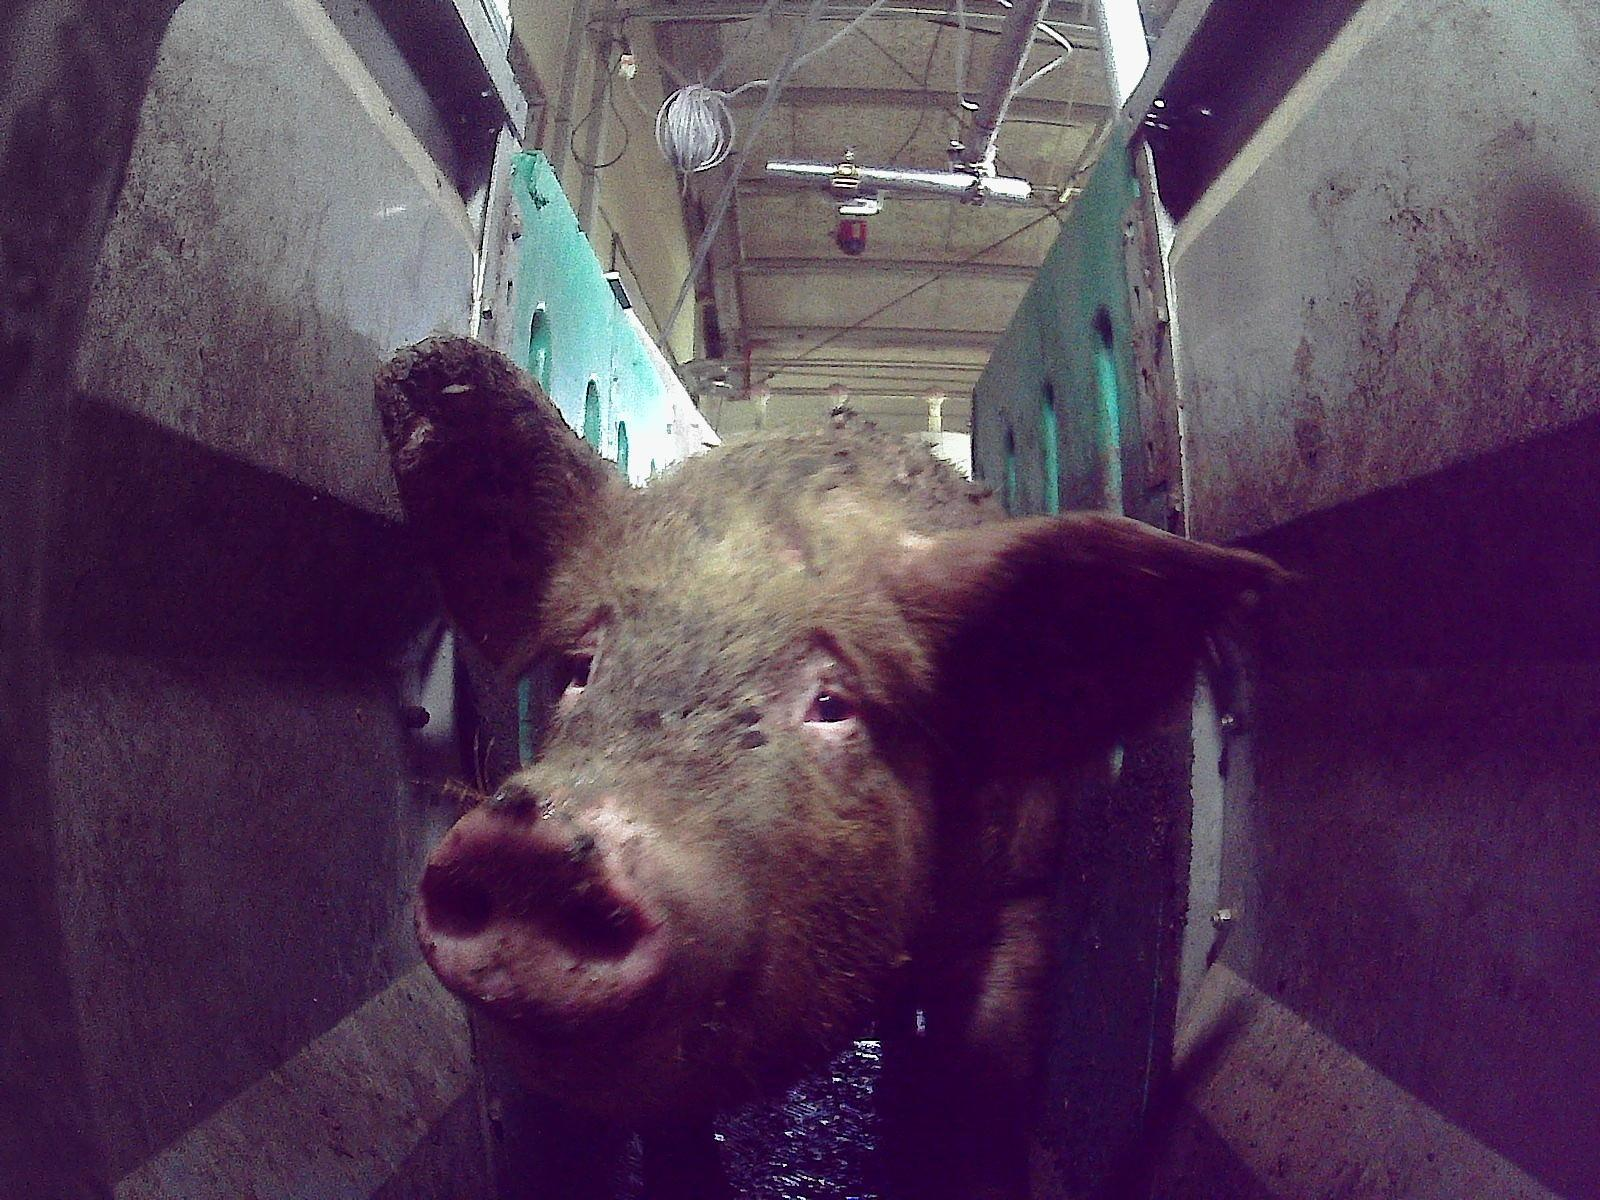Face: (412, 512, 958, 1104)
